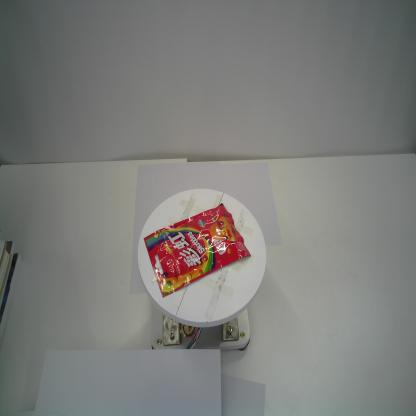Candy: (144, 201, 253, 300)
